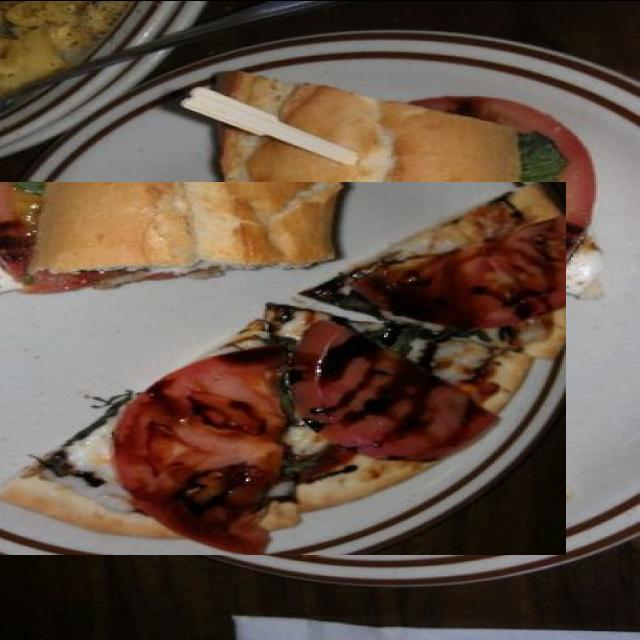pizza: (0, 181, 566, 554)
